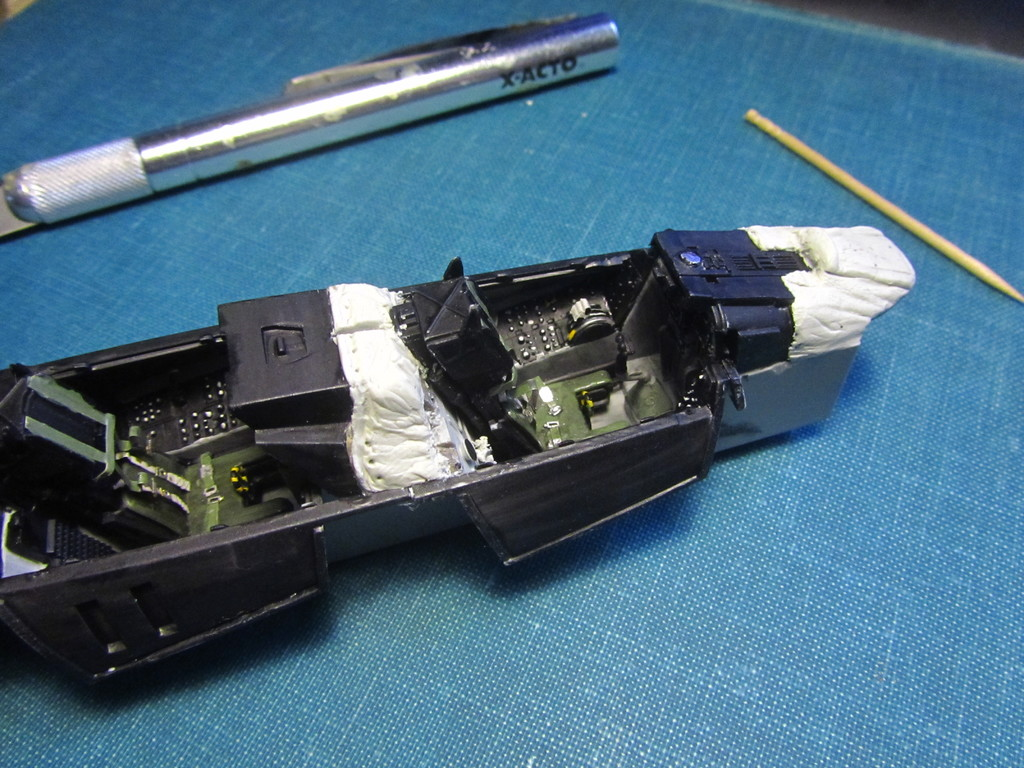Pen: (0, 6, 619, 244)
